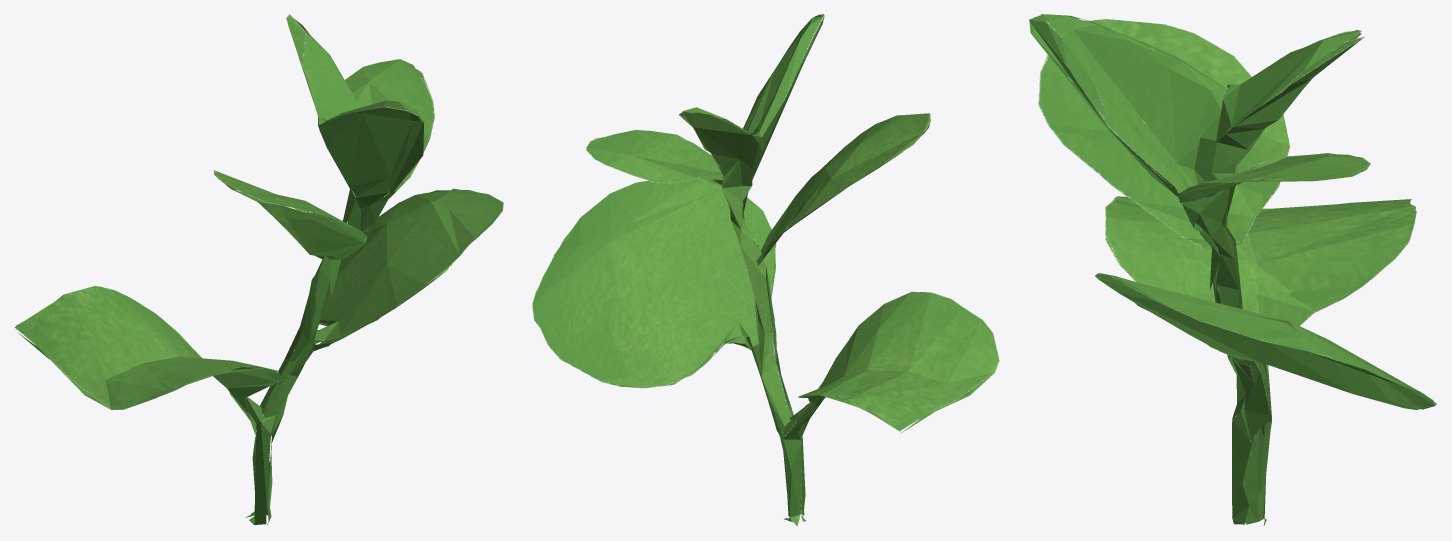
File: Plant_2.glb
3 views of the same model, side by side, from view 1: azimuth 30°, elevation 25°; view 2: azimuth 150°, elevation 25°; view 3: azimuth 270°, elevation 25° (orthographic). The views are drawn at different scales.
Visible parts, largest first — view 1: plantphase1; view 2: plantphase1; view 3: plantphase1.
Part boxes in pixels (<box>): plantphase1: <box>14,14,503,524</box>; plantphase1: <box>532,14,999,526</box>; plantphase1: <box>1028,14,1436,526</box>.
Bounding box in the file's own units: 0.0262 × 0.0283 × 0.0191.
1 material, 1 textured.
